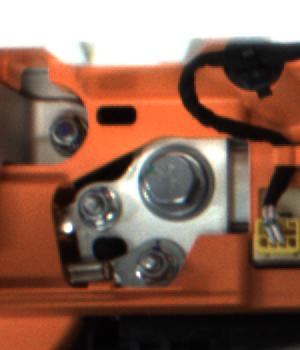nut_b: (131, 136, 222, 226)
